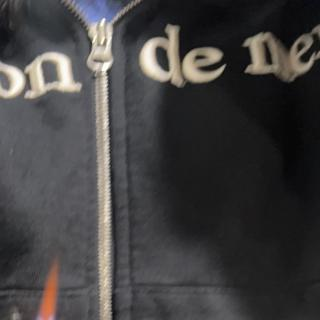fire: (36, 258, 57, 320)
